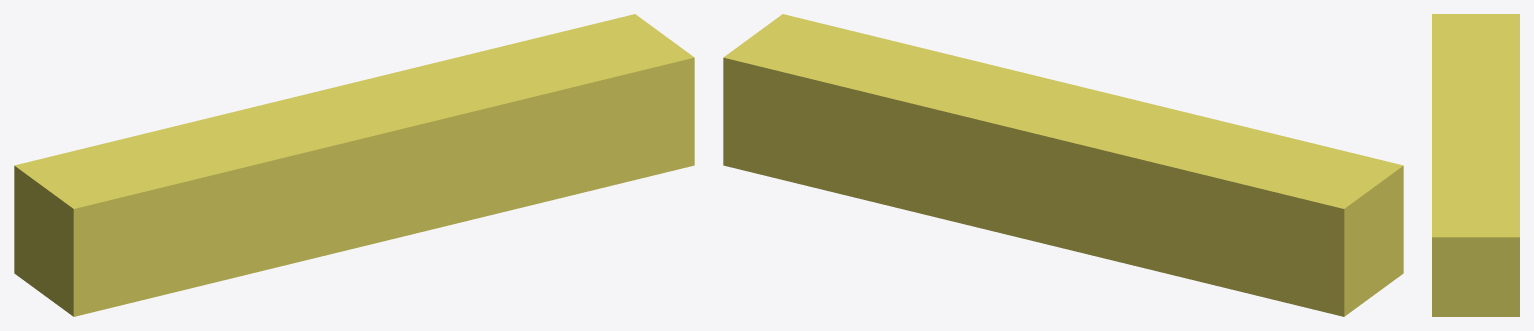
Rendered from wall_02.glb.
3 renders of one model, left to right at view 1: azimuth 30°, elevation 25°; view 2: azimuth 150°, elevation 25°; view 3: azimuth 270°, elevation 25°, orthographic. The views are drawn at different scales.
Parts seen in each view (by area): view 1: Wall_beta; view 2: Wall_beta; view 3: Wall_beta.
Part boxes in pixels (left/top/right/bottom): Wall_beta: left=14, top=14, right=694, bottom=316; Wall_beta: left=723, top=14, right=1403, bottom=316; Wall_beta: left=1432, top=14, right=1519, bottom=316.
Size of the model in its own units: 12.04 by 2 by 2.
